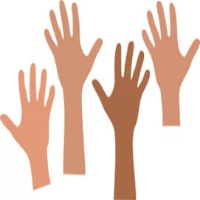ring: (47, 8, 66, 45), (144, 8, 161, 48), (131, 51, 146, 83), (40, 67, 48, 107)
